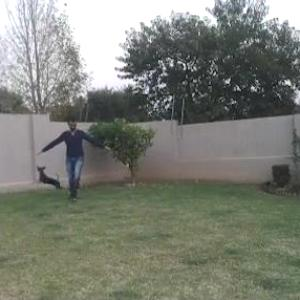land: (41, 112, 122, 208)
